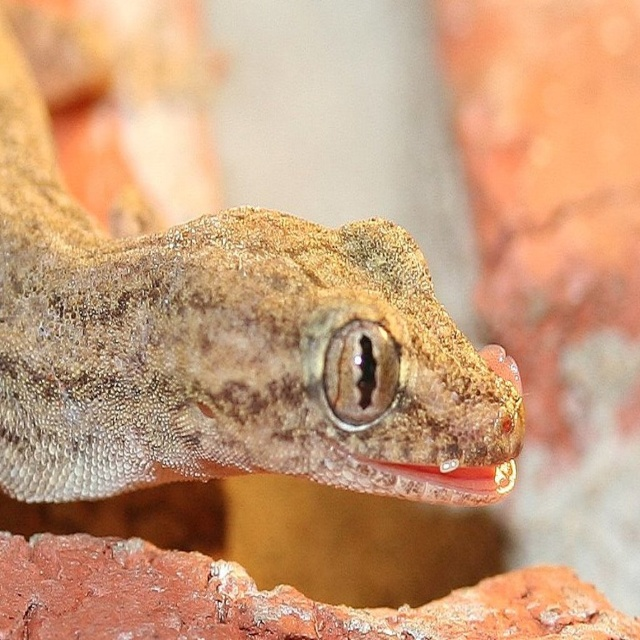Lizard: (0, 149, 515, 576)
